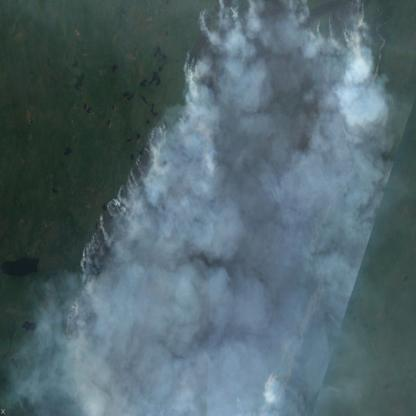fire: (63, 0, 380, 416)
